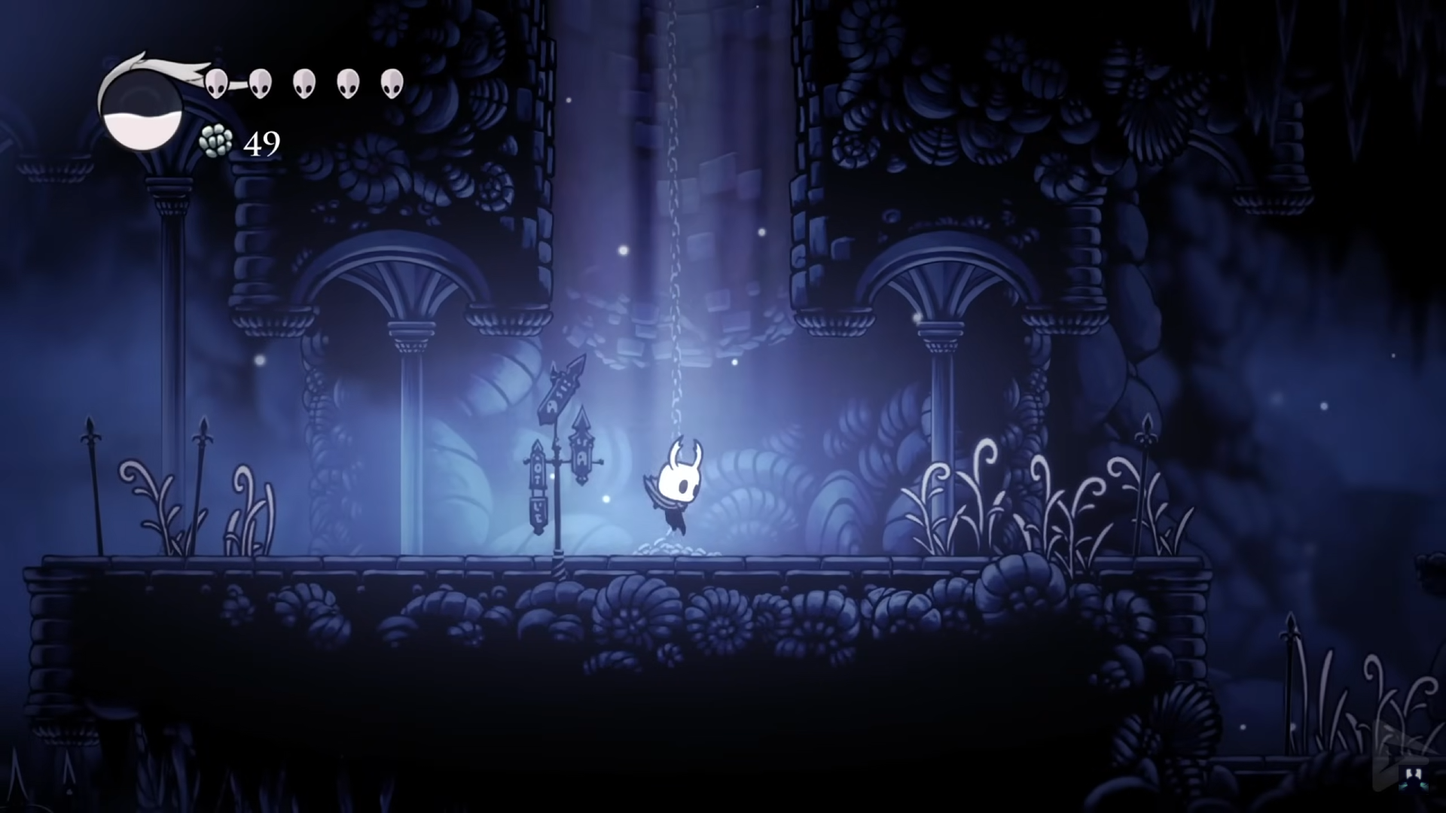HK: (646, 430, 706, 543)
